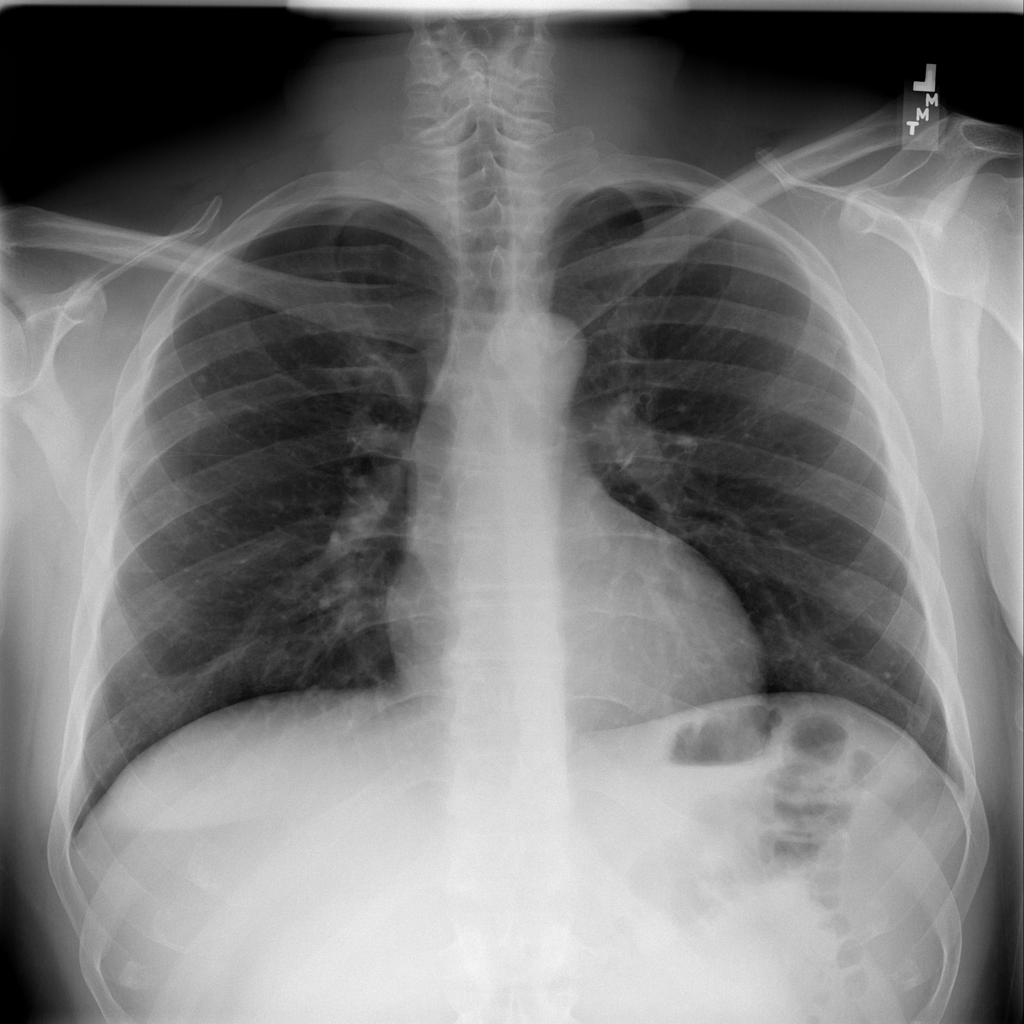nodule: (175, 354, 230, 402)
